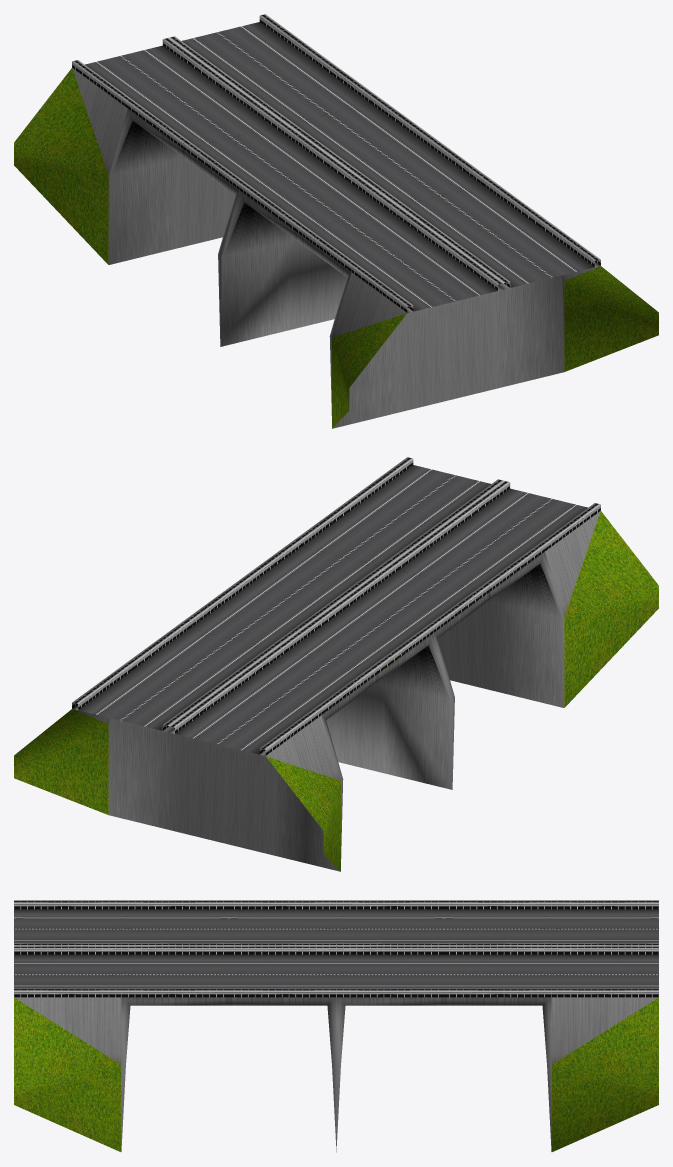
File: brug_snelweg_1b_met_talud.fbx
3 views of the same model, one above another, from view 1: azimuth 30°, elevation 25°; view 2: azimuth 150°, elevation 25°; view 3: azimuth 270°, elevation 25° (orthographic). The views are drawn at different scales.
Visible parts, largest first — view 1: brug_snelweg_1b_met_talud; view 2: brug_snelweg_1b_met_talud; view 3: brug_snelweg_1b_met_talud.
Part boxes in pixels (box(x1,y1,x2,y2)): brug_snelweg_1b_met_talud: box(14, 14, 658, 428); brug_snelweg_1b_met_talud: box(14, 457, 658, 871); brug_snelweg_1b_met_talud: box(14, 900, 658, 1152).
Size of the model in its own units: 3200 by 1563 by 6001.
